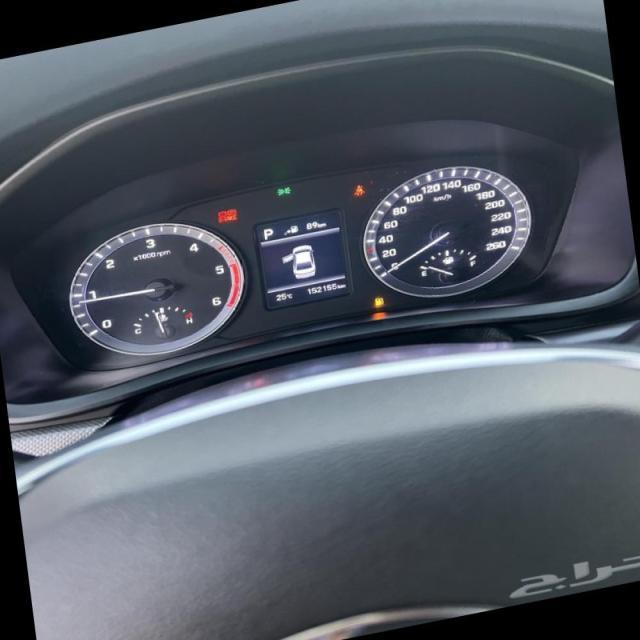Seat Belt: (353, 184, 365, 197)
